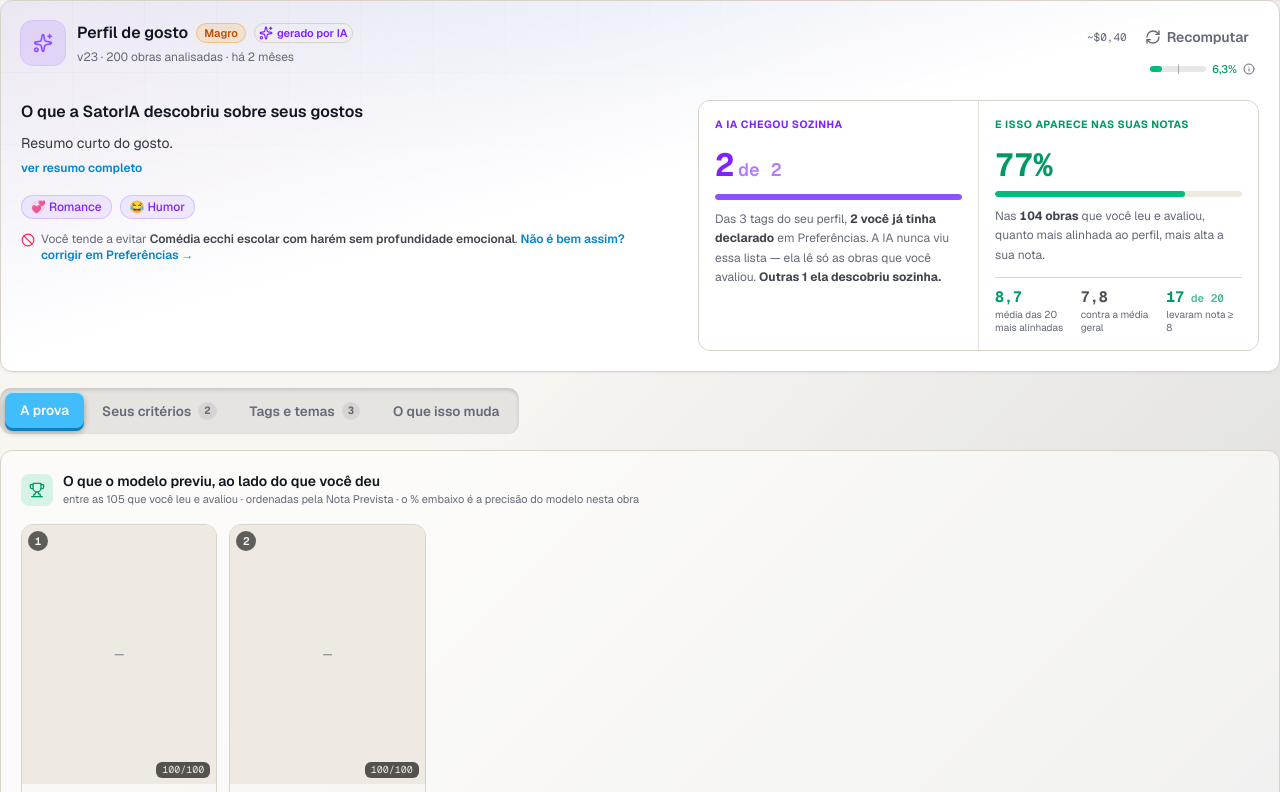
Test: aba Seus critérios › rotula FAIXA e PESO como campos separados
Click the tab "Seus critérios 2": [159, 411] box [87,393,232,429]
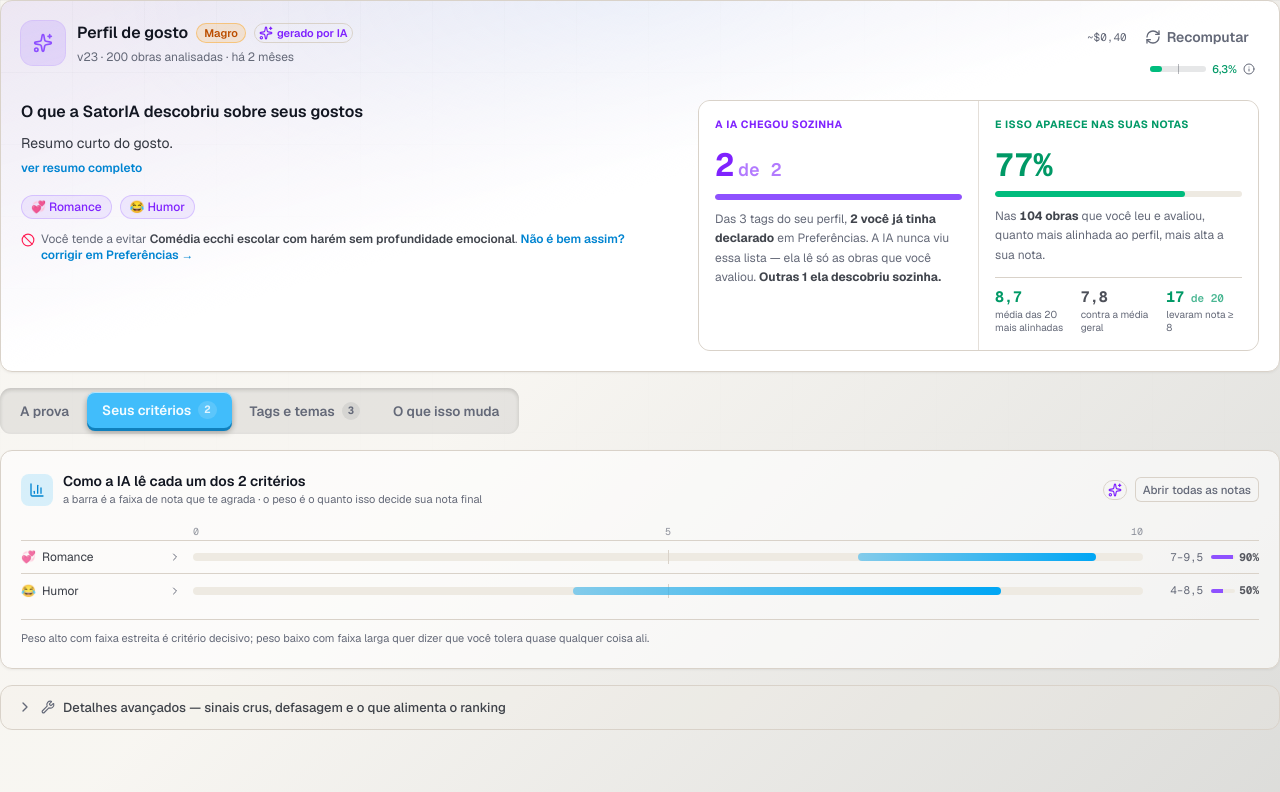
Expected: the text "7–9,5" is shown, [1170,549,1203,565]
Expected: the text "90%" is shown, [1239,549,1259,565]
Expected: the text "4–8,5" is shown, [1170,582,1203,599]
